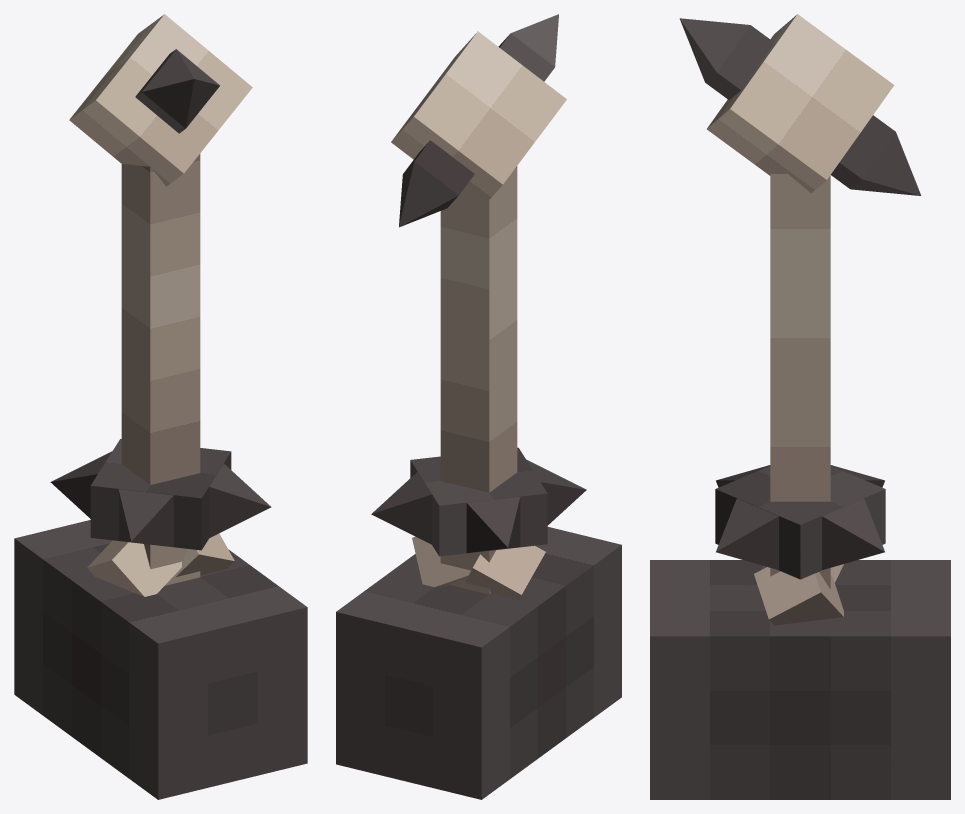
File: arm_hammer_l.obj
The picture shows the model from 3 angles, left to right: view 1: azimuth 30°, elevation 25°; view 2: azimuth 150°, elevation 25°; view 3: azimuth 270°, elevation 25°; orthographic projection. The views are drawn at different scales.
Visible parts, largest first — view 1: ARM_LEFT_BONE_HAMMER_Cube.412; view 2: ARM_LEFT_BONE_HAMMER_Cube.412; view 3: ARM_LEFT_BONE_HAMMER_Cube.412.
Part boxes in pixels (x1=…): ARM_LEFT_BONE_HAMMER_Cube.412: x1=14, y1=14, x2=307, y2=799; ARM_LEFT_BONE_HAMMER_Cube.412: x1=336, y1=14, x2=621, y2=799; ARM_LEFT_BONE_HAMMER_Cube.412: x1=650, y1=14, x2=950, y2=799.
Bounding box in the file's own units: 0.1951 × 0.8582 × 0.3125.
